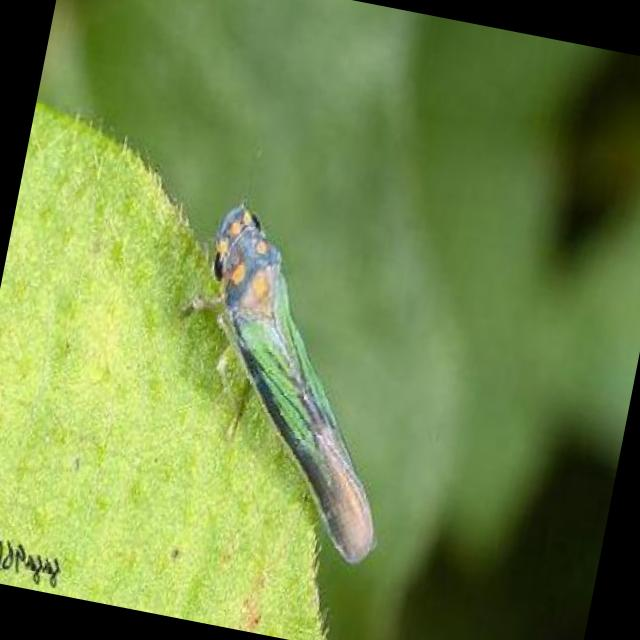green-leafhopper: (176, 199, 378, 561)
